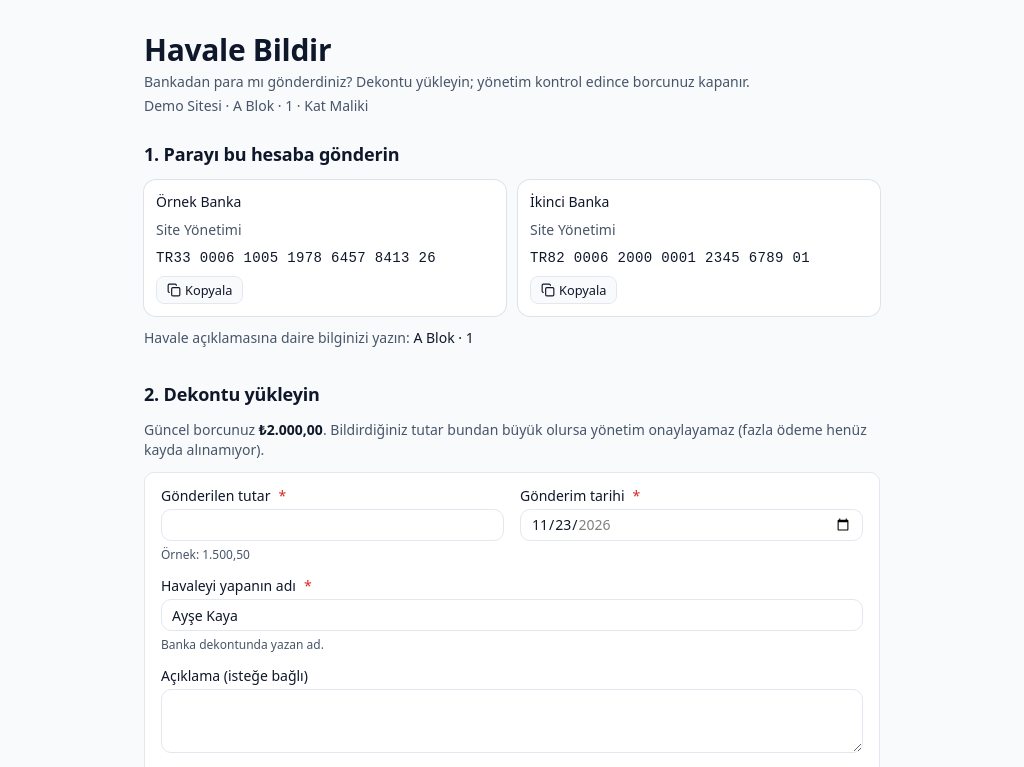
Test: Havale Bildir: the bank accounts › copies the IBAN without spaces
Click the button with aria-label "Örnek Banka IBAN’ını kopyala". click: (200, 290)
box: [156,276,244,304]
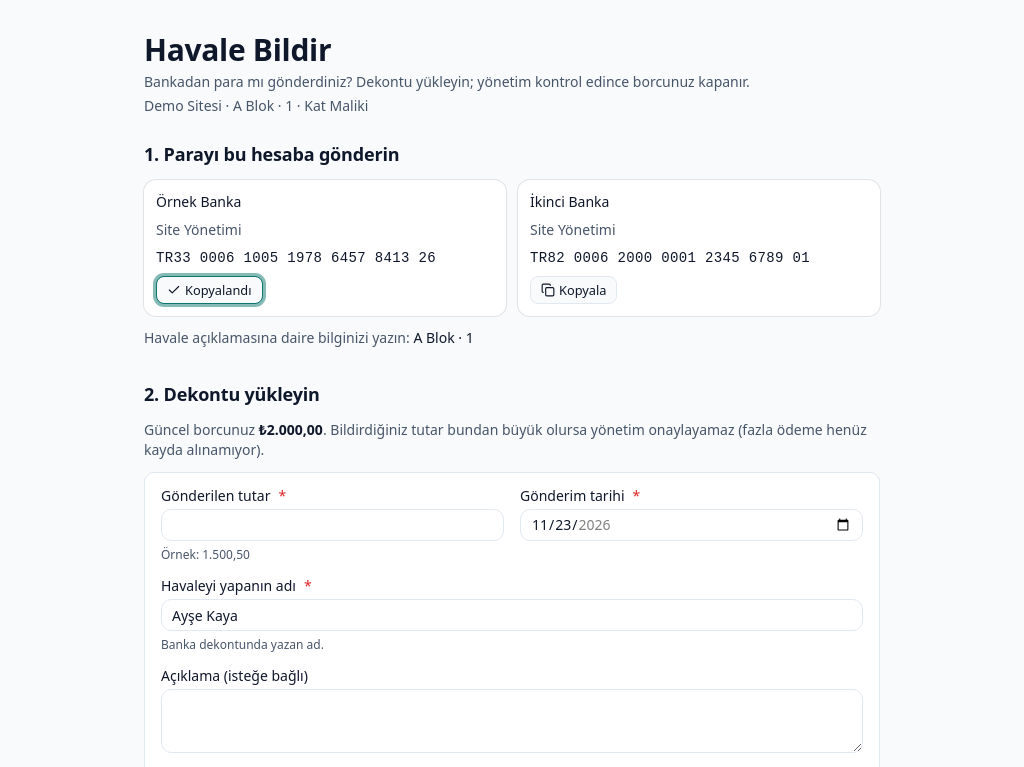
Now the button "Kopyalandı" is shown, box [156,276,262,304]
